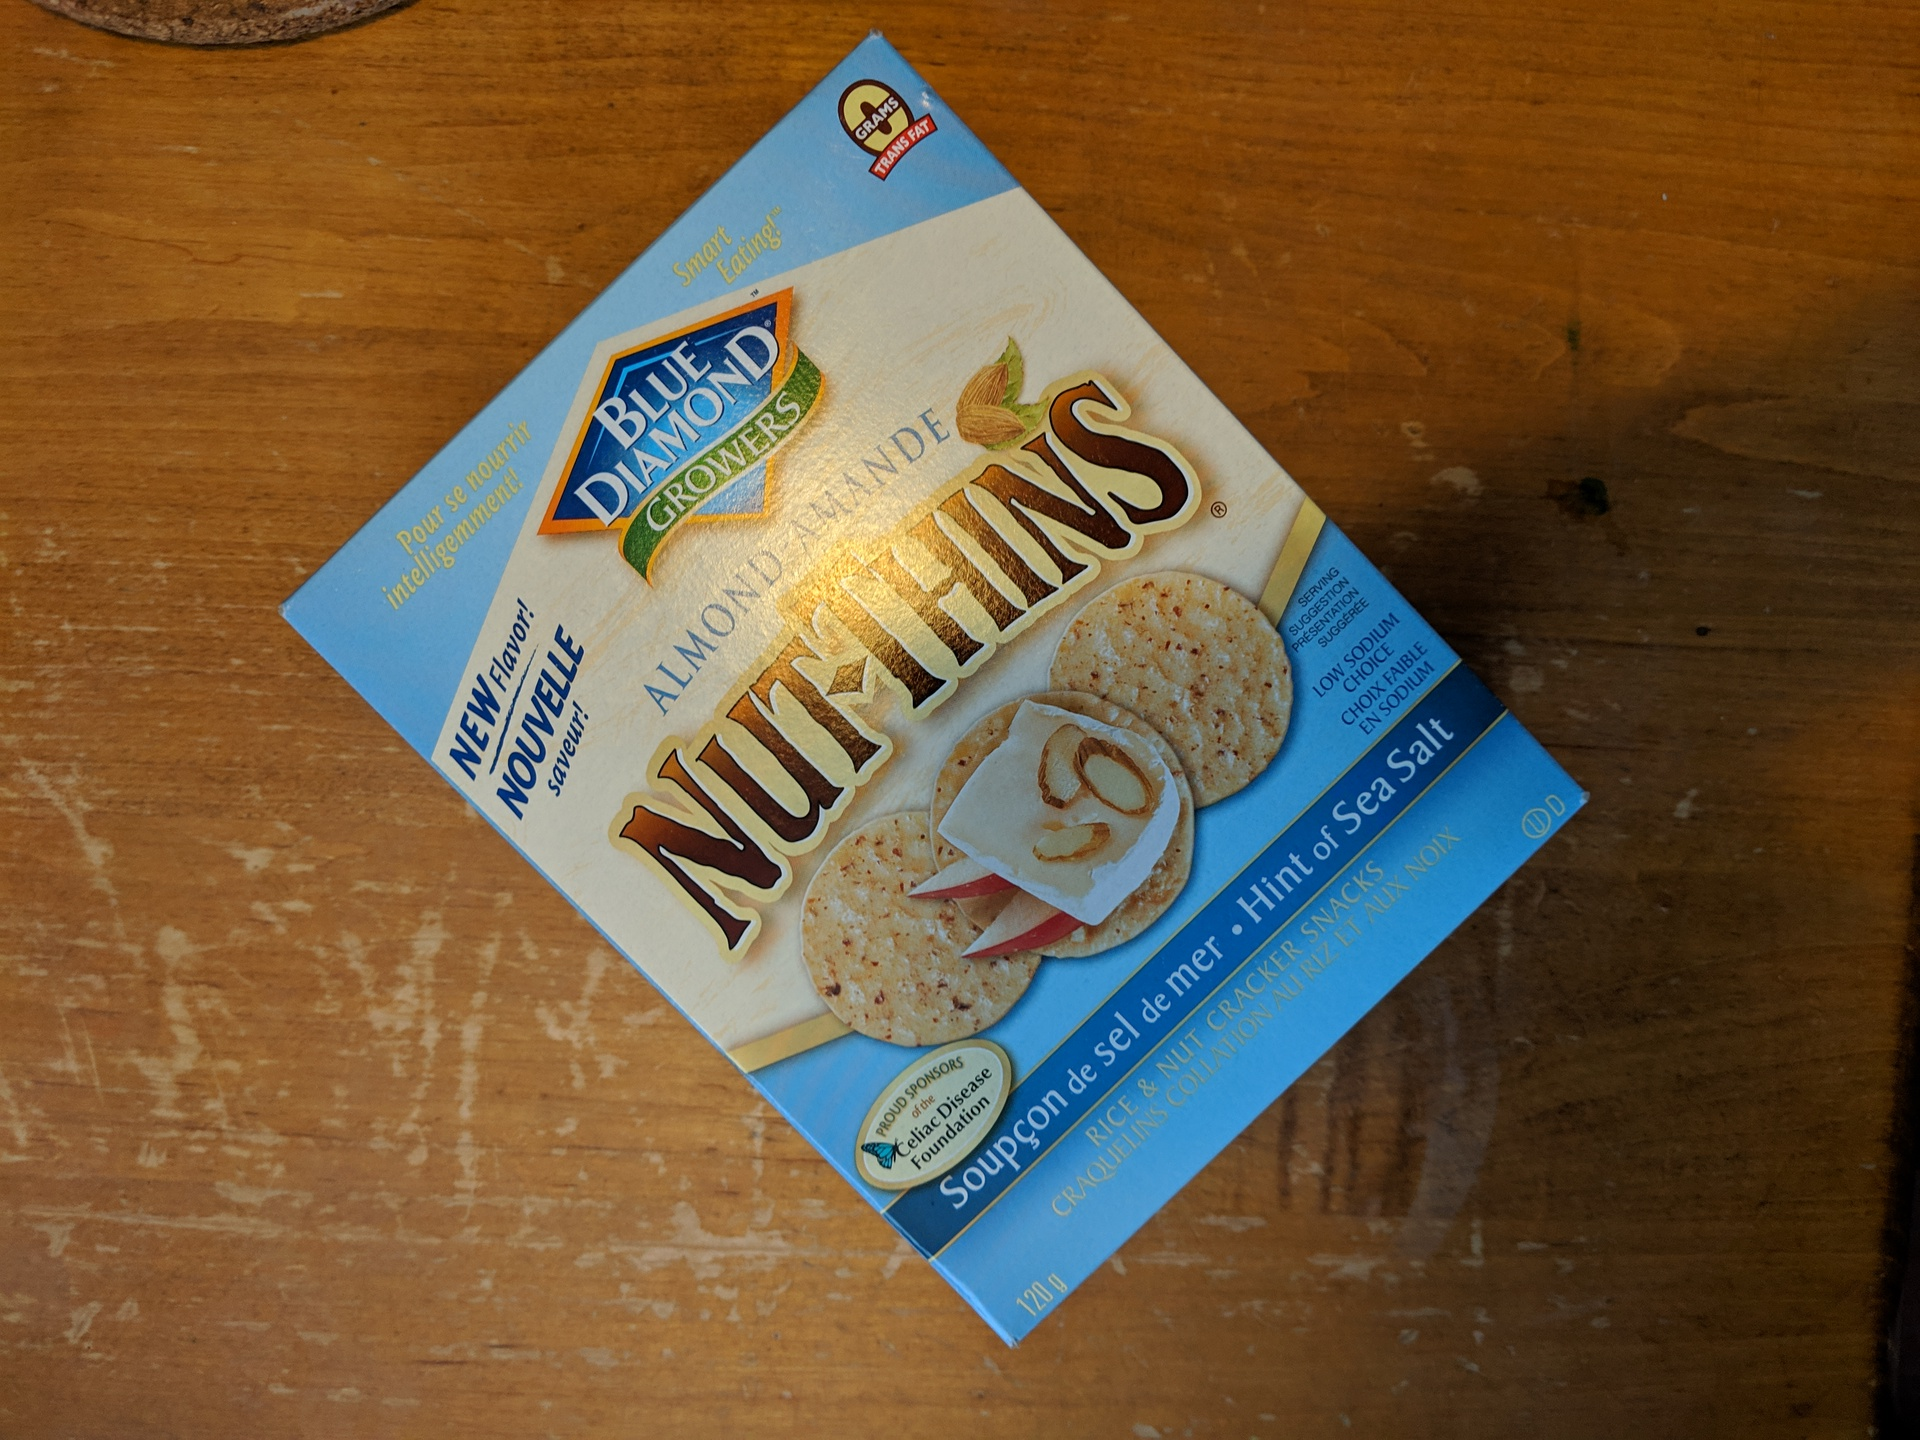blue_diamond_nut_thins_almond_seasalt: (382, 160, 1432, 1252)
